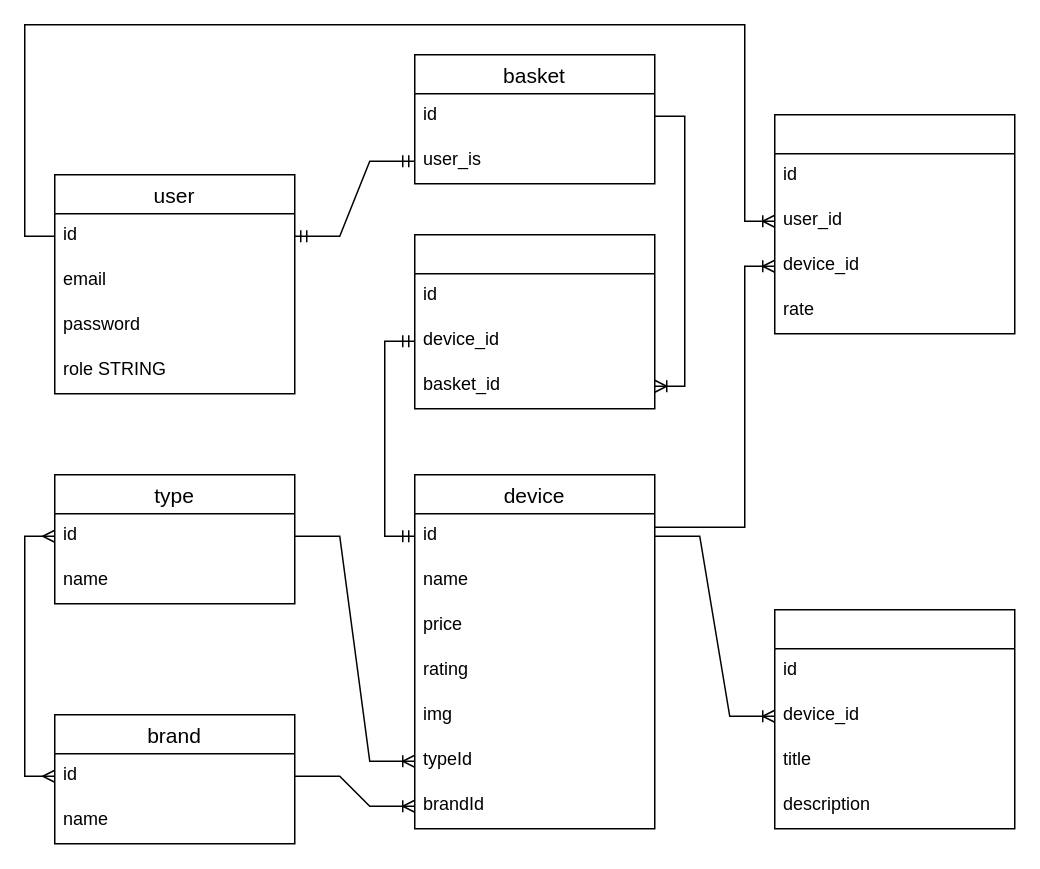
This 1040x869 diagram has some shape labels left out. Here are the shapes that lost their labels. From the top down, the box of each, then its label:
(773, 113, 1015, 334): raiting
(413, 233, 655, 409): basket_device
(773, 608, 1015, 829): device_info
